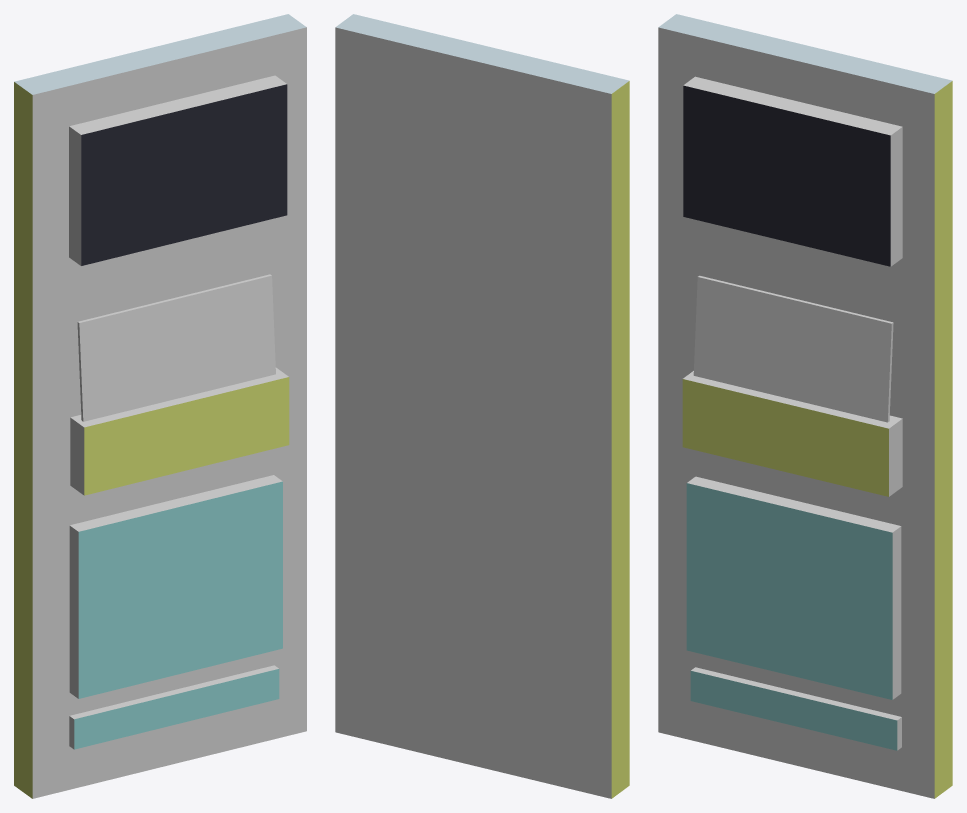
Rendered from ASSET-TEMPLATE-4-RAK.fbx.
3 views of the same model, side by side, from view 1: azimuth 30°, elevation 25°; view 2: azimuth 150°, elevation 25°; view 3: azimuth 330°, elevation 25° (orthographic).
Visible parts, largest first — view 1: Cube; view 2: Cube; view 3: Cube.
Boxes of the visible parts, x1,y1,x2,y2 form: Cube: [14, 14, 306, 798]; Cube: [335, 14, 629, 798]; Cube: [658, 14, 952, 798].
Size of the model in its own units: 89.33 by 218 by 18.41.
